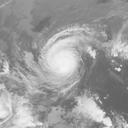cyclone: (23, 25, 104, 99)
